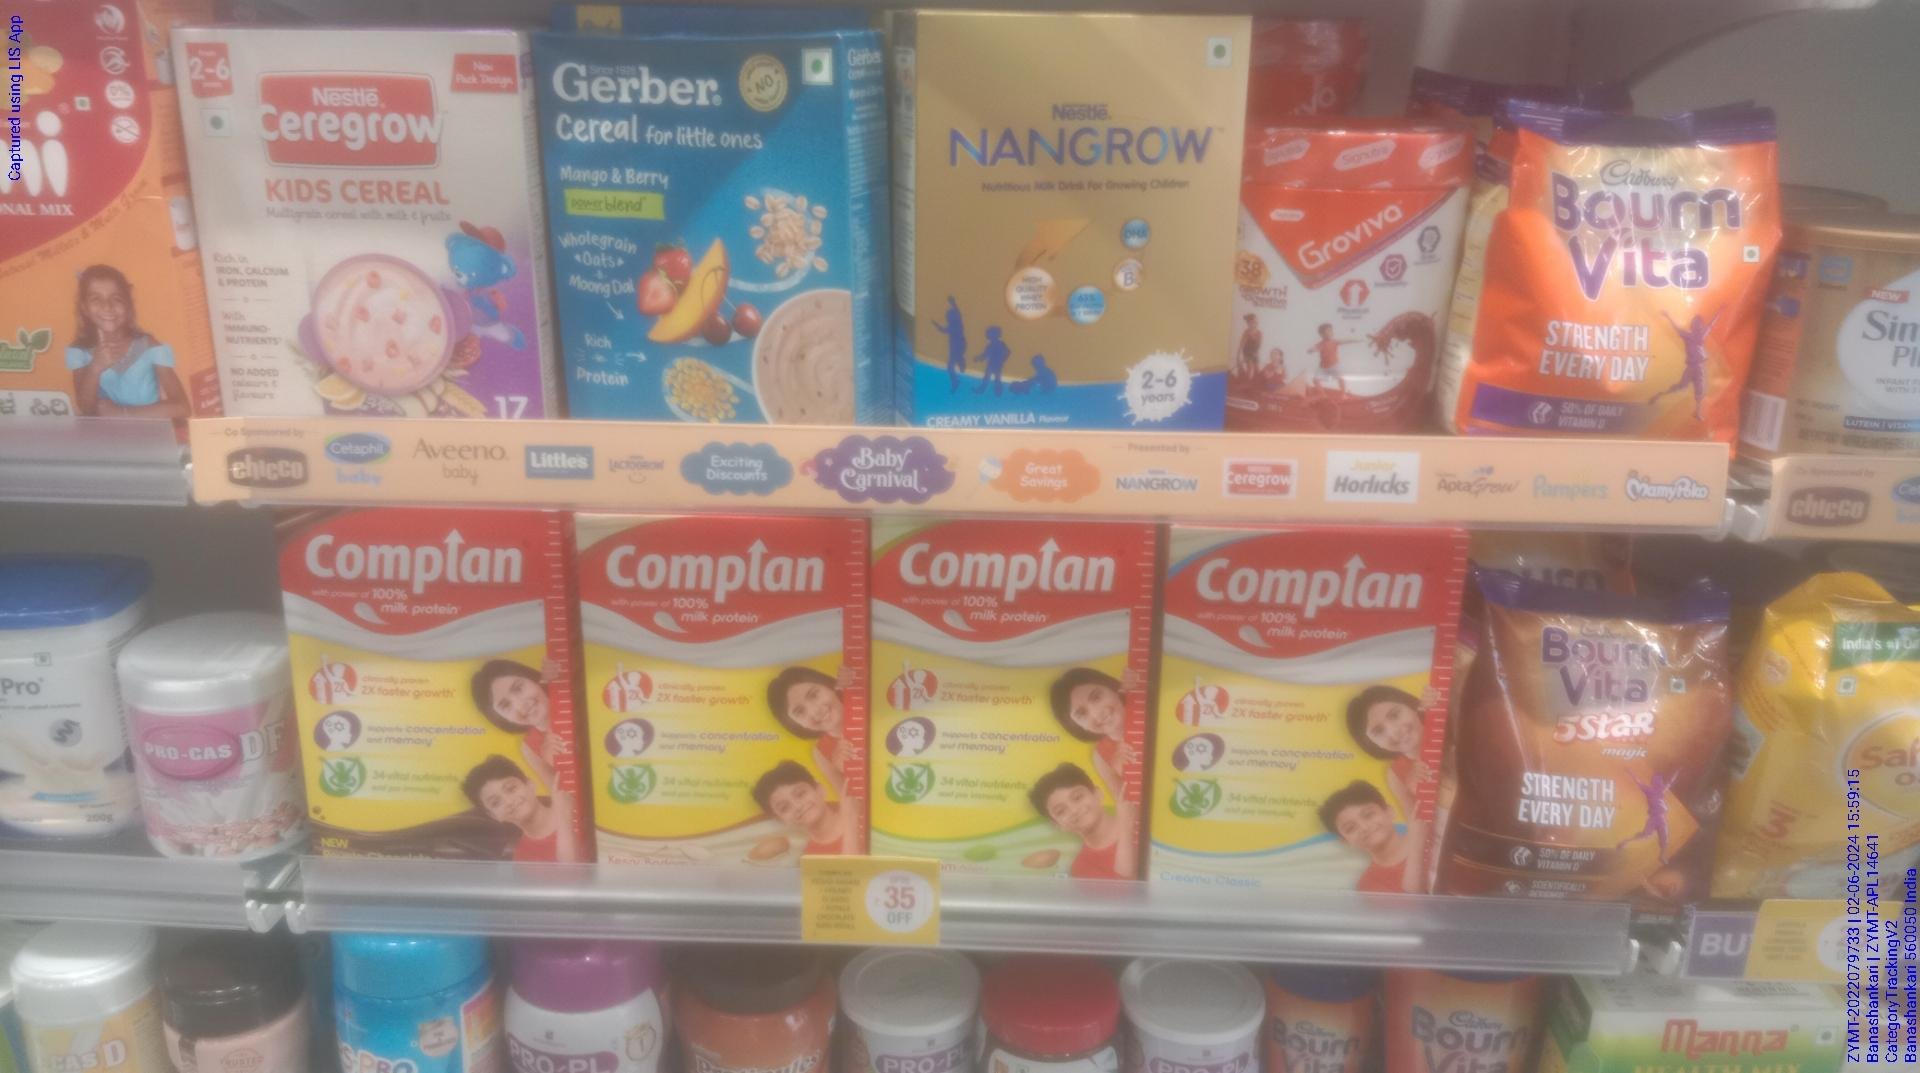BOURN_VITA_500_G_POUCH: (1494, 108, 1767, 428)
BOURN_VITA_FIVE_STAR_MAGIC_500_G_POUCH: (1456, 567, 1716, 883)
COMPLAN_CREAMY_CLASSIC_500_G_PACK: (1160, 526, 1431, 888)
COMPLAN_PISTA_BADAM_500_GMS_PACK: (877, 519, 1149, 884)
